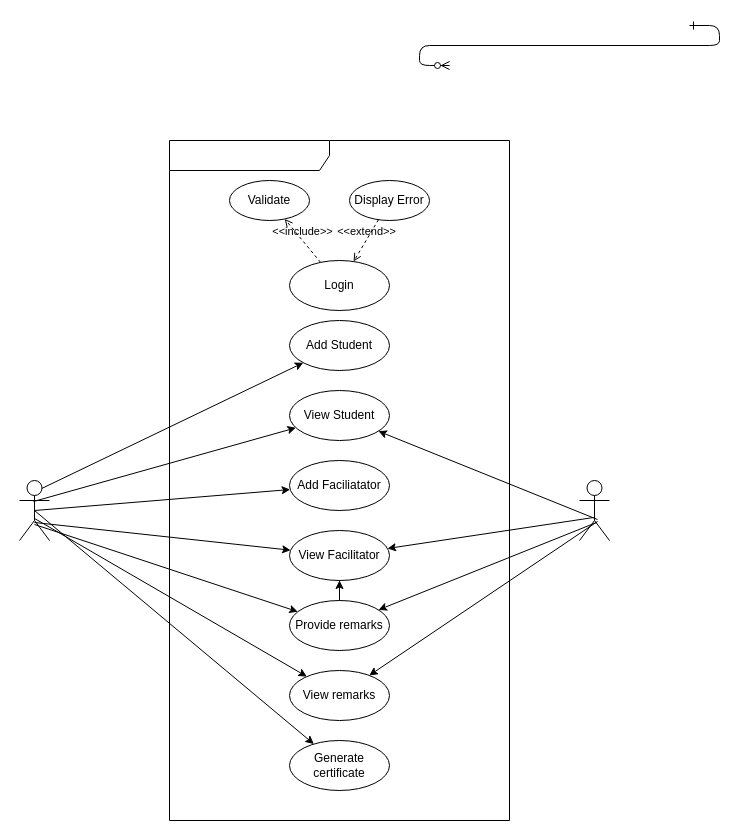
Image size: 746x838. Some labels were removed from this diagram. Here are the shapes that lost their labels. From the top down, the centre of each, then its label:
At [339,480]: "Use Case".
At [34,510]: "Admin".
At [594,510]: "Facilitator".
